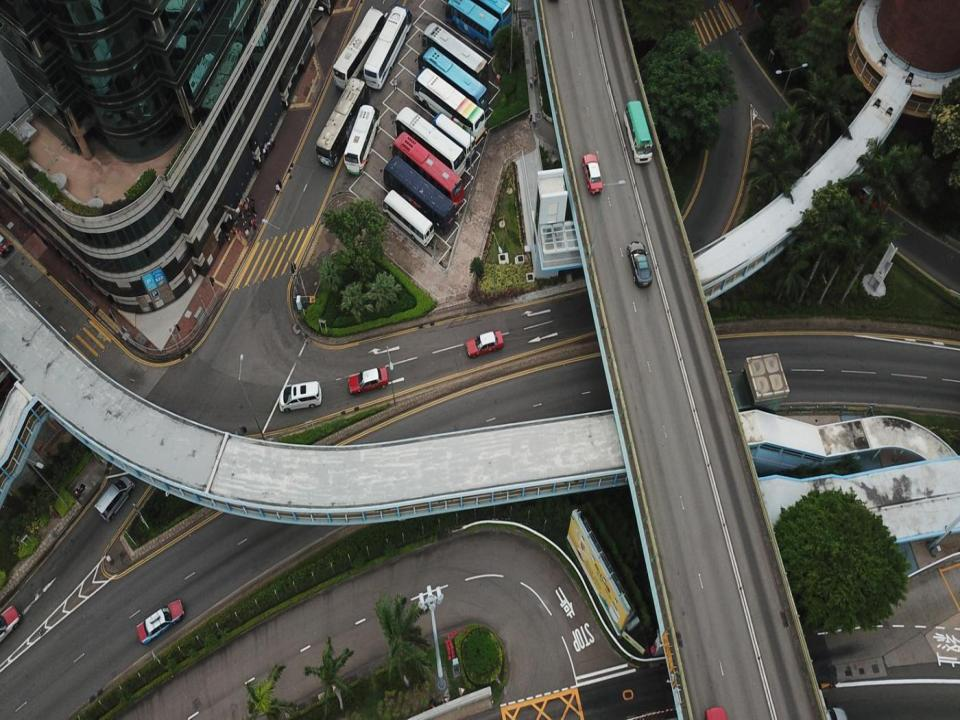bus: (380, 154, 455, 235), (388, 131, 464, 209), (411, 66, 485, 144), (392, 105, 466, 182), (414, 45, 488, 118), (418, 21, 488, 92), (316, 77, 370, 167), (332, 6, 386, 92), (364, 5, 412, 92), (382, 188, 434, 247), (442, 0, 499, 50), (343, 105, 380, 175), (432, 112, 475, 161), (453, 0, 512, 35), (623, 100, 652, 162)
car: (136, 600, 185, 644), (627, 242, 653, 288), (348, 366, 388, 395), (466, 331, 504, 359), (583, 154, 603, 194), (0, 605, 19, 644), (0, 234, 12, 258)
van: (94, 473, 134, 523), (279, 380, 322, 412), (802, 706, 848, 719)
